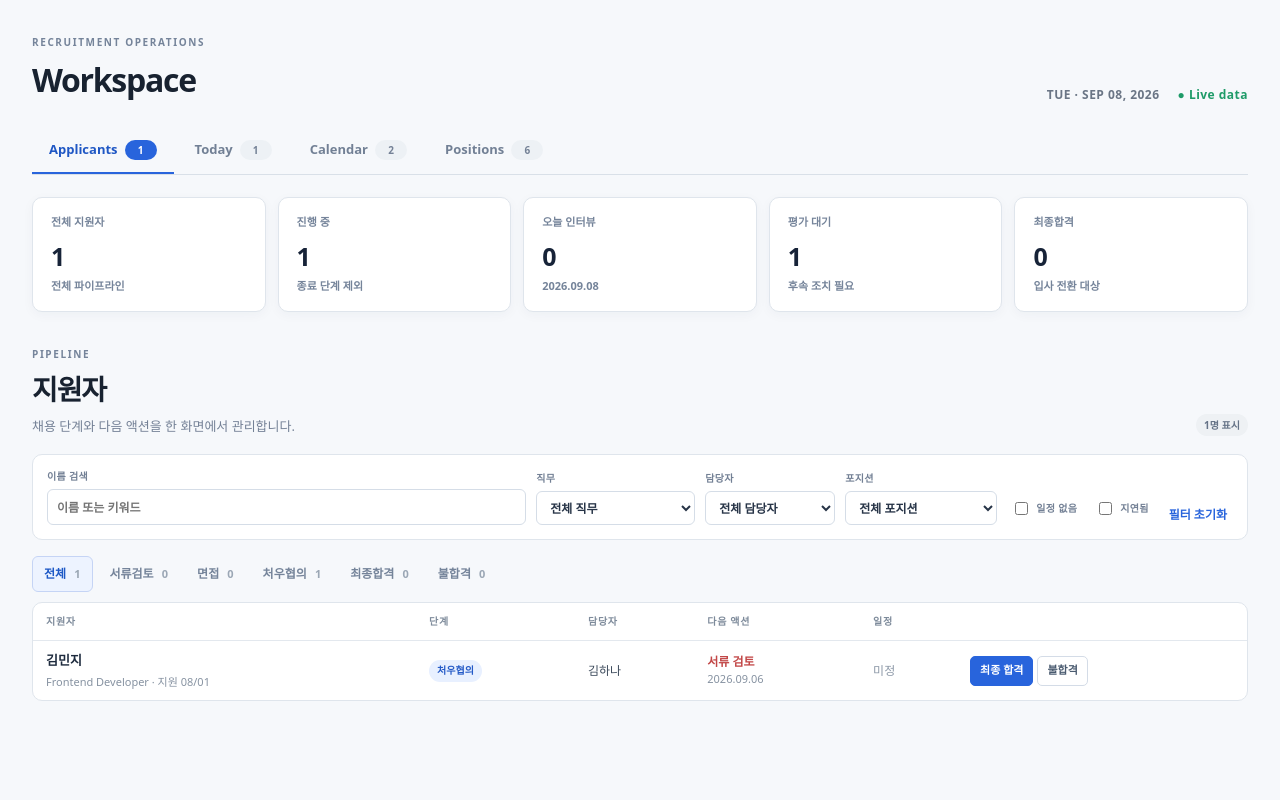
Test: requires confirmation only for terminal stage moves
Click the button with aria-label "최종 합격 · 김민지 · applicant-001": (1002, 670) [970,656,1033,686]
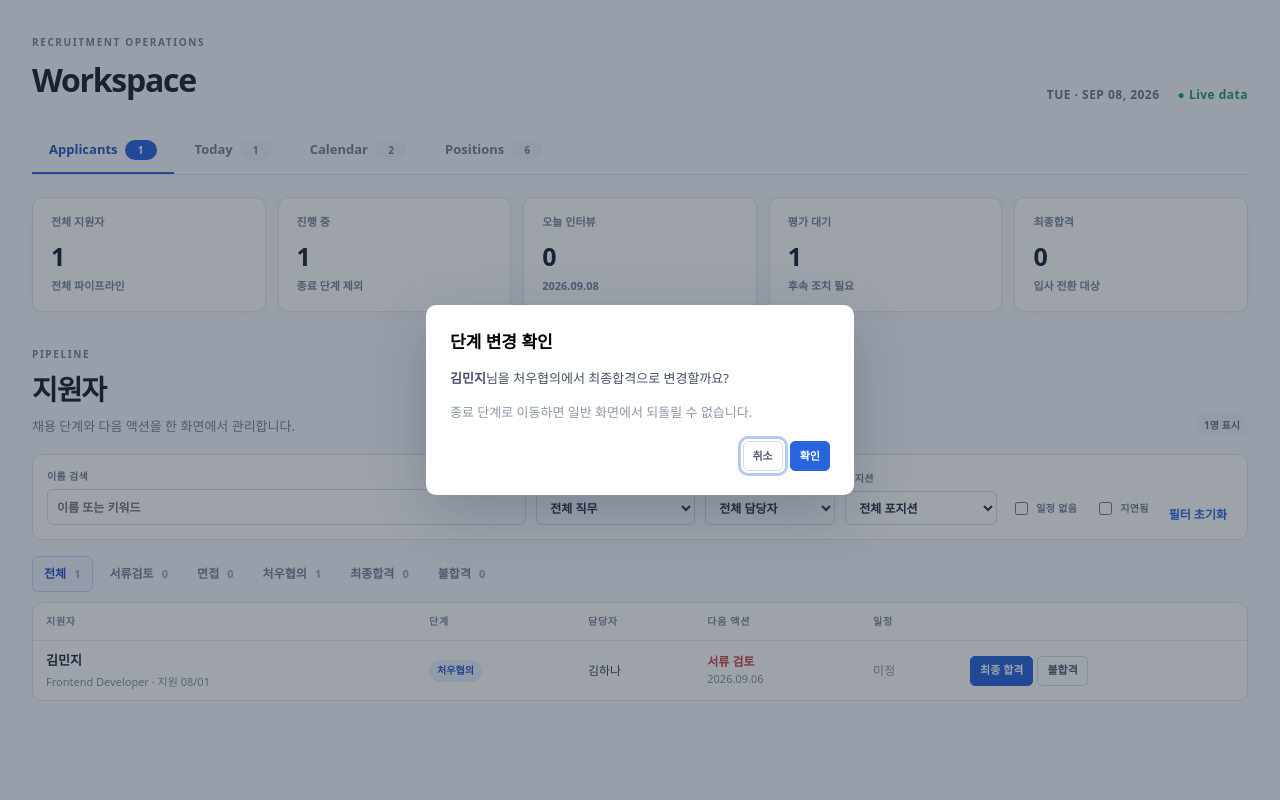
Result: the heading "단계 변경 확인" is shown at [450,330,553,353]
Click the button "확인": (810, 456) [790,441,830,471]
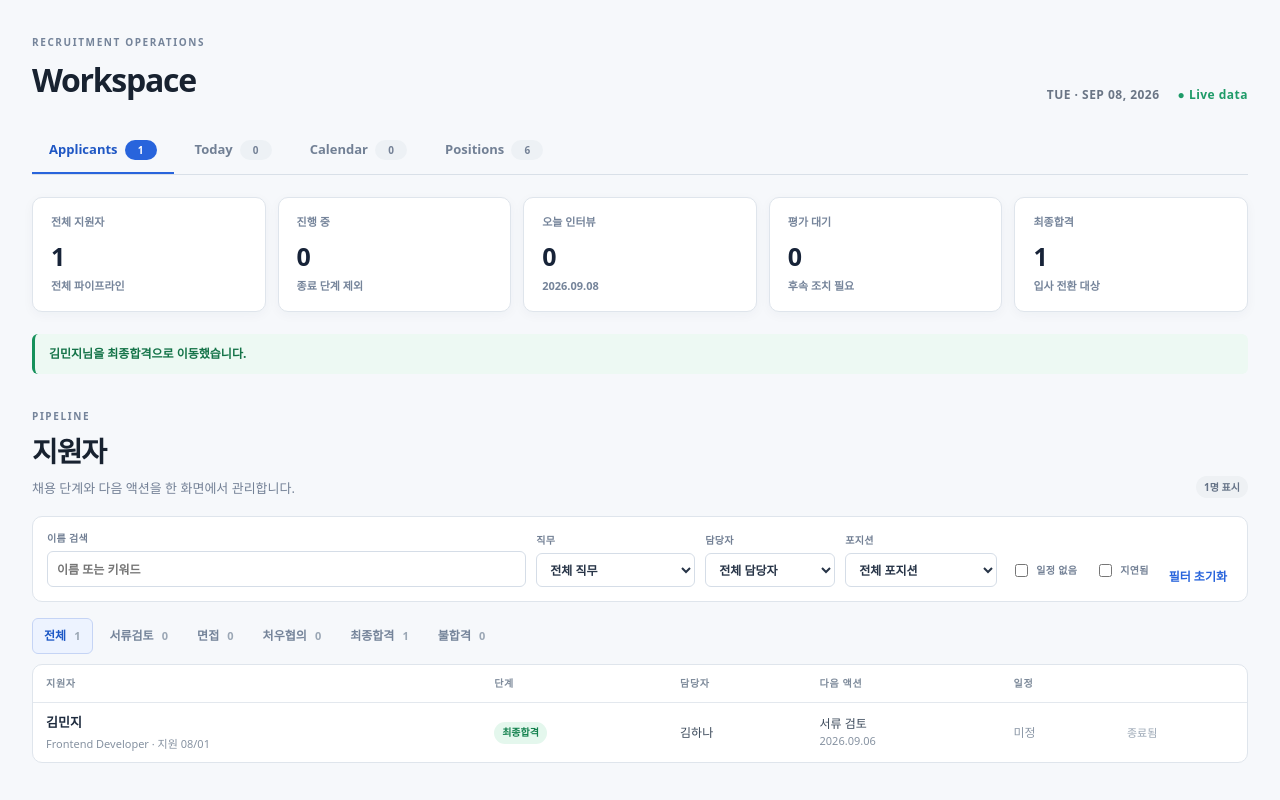
Result: the message shows "최종합격" at [49,344,246,362]
